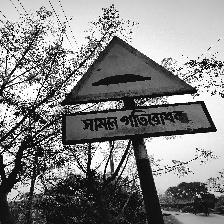Speed-breaker: (60, 36, 214, 145)
